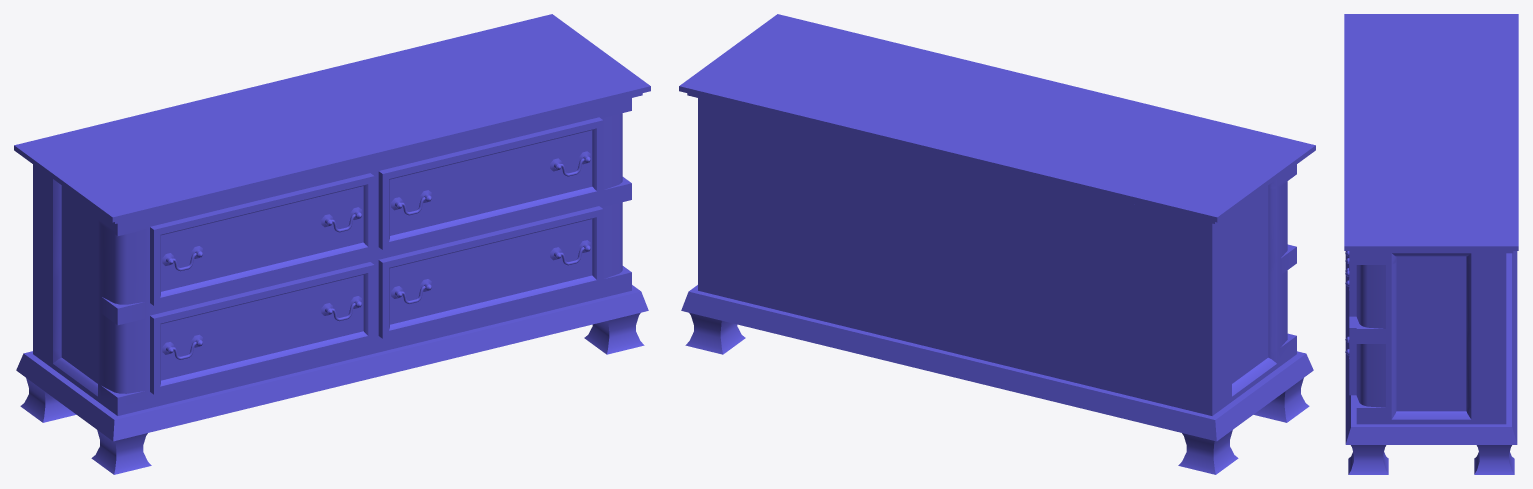
Rendered from Small-Wardrobe.fbx.
The picture shows the model from 3 angles, left to right: view 1: azimuth 30°, elevation 25°; view 2: azimuth 150°, elevation 25°; view 3: azimuth 270°, elevation 25°; orthographic projection. The views are drawn at different scales.
Visible parts, largest first — view 1: small Wardrobe_low.001, Drawer-01_low.002, Drawer-01_low.004, Drawer-01_low.001, Drawer-01_low.003; view 2: small Wardrobe_low.001; view 3: small Wardrobe_low.001, Drawer-01_low.004, Drawer-01_low.002.
Part boxes in pixels (x1,y1,x2,y2): small Wardrobe_low.001: [14, 14, 650, 474]; Drawer-01_low.002: [378, 117, 603, 249]; Drawer-01_low.004: [378, 206, 603, 338]; Drawer-01_low.001: [150, 173, 374, 305]; Drawer-01_low.003: [150, 262, 374, 394]; small Wardrobe_low.001: [679, 14, 1315, 474]; small Wardrobe_low.001: [1344, 14, 1518, 474]; Drawer-01_low.004: [1345, 268, 1356, 395]; Drawer-01_low.002: [1345, 251, 1356, 316].
Bounding box in the file's own units: 209 × 66.39 × 96.7.
